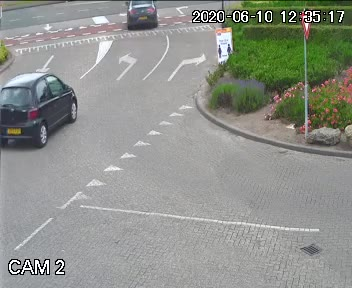car: (0, 66, 84, 150), (122, 0, 161, 35)
